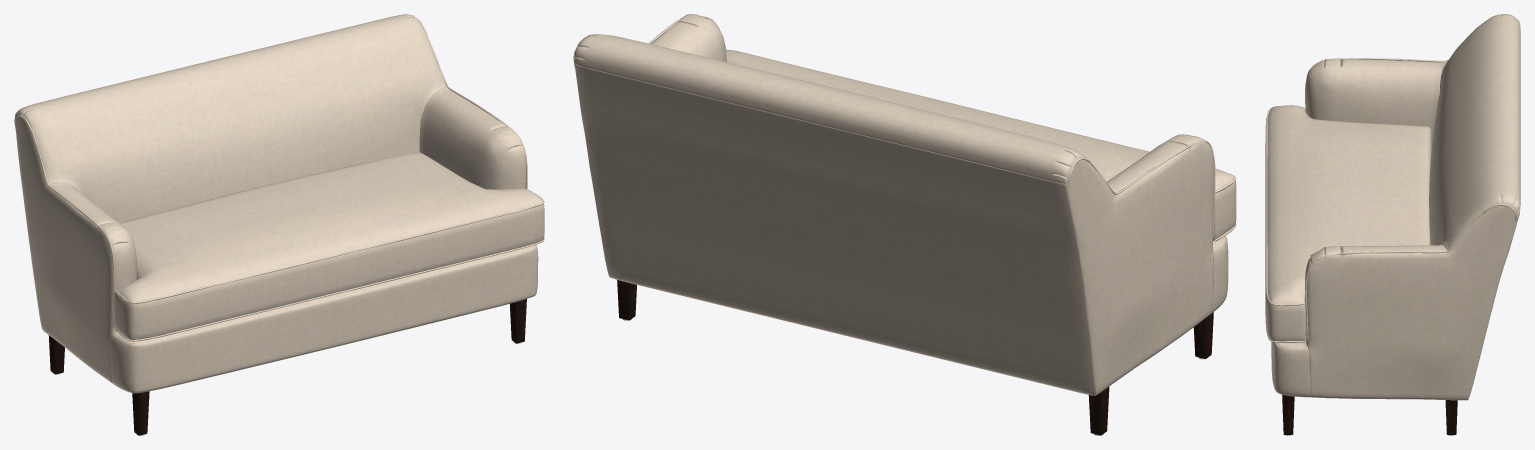
Rendered from rocksjon_sofa_2_osobowa_59508860.glb.
3 views of the same model, side by side, from view 1: azimuth 30°, elevation 25°; view 2: azimuth 150°, elevation 25°; view 3: azimuth 270°, elevation 25° (orthographic). The views are drawn at different scales.
Visible parts, largest first — view 1: rocksjon_sofa_2_osobowa_59508860; view 2: rocksjon_sofa_2_osobowa_59508860; view 3: rocksjon_sofa_2_osobowa_59508860.
Boxes of the visible parts, bbox=[...] form: rocksjon_sofa_2_osobowa_59508860: bbox=[14, 14, 544, 435]; rocksjon_sofa_2_osobowa_59508860: bbox=[573, 14, 1236, 435]; rocksjon_sofa_2_osobowa_59508860: bbox=[1265, 14, 1520, 435].
Bounding box in the file's own units: 1.42 × 0.8001 × 0.77.
1 material, 1 textured.
